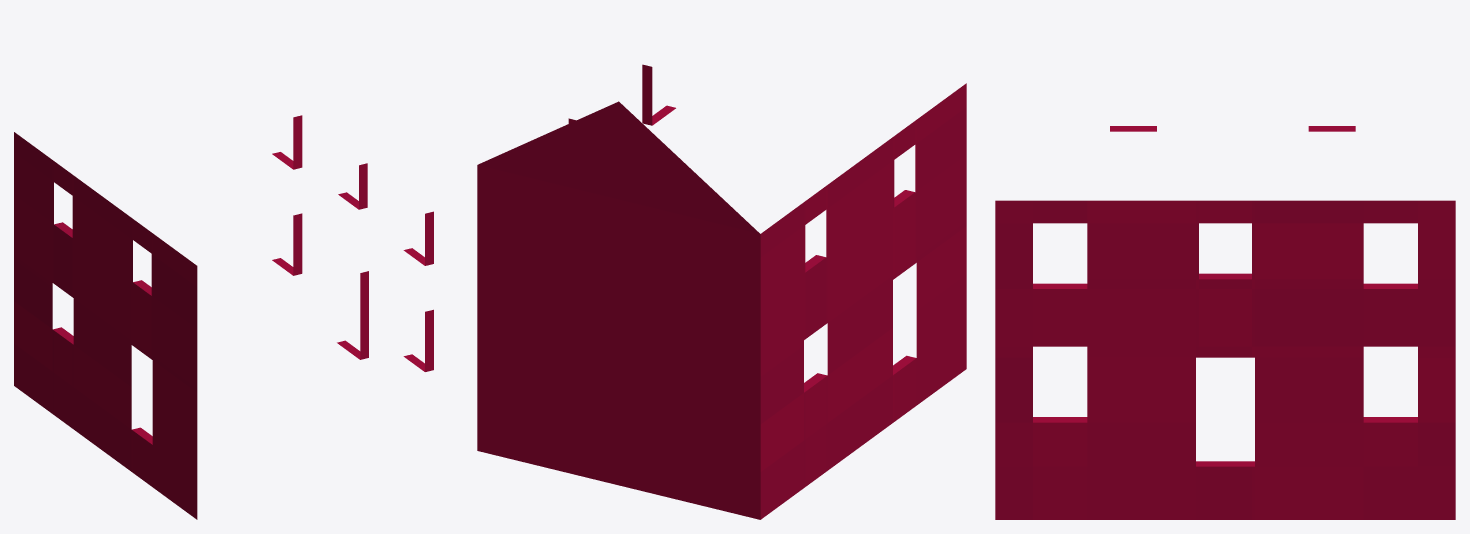
File: SM_Bld_138_Masonry.glb
The picture shows the model from 3 angles, left to right: view 1: azimuth 30°, elevation 25°; view 2: azimuth 150°, elevation 25°; view 3: azimuth 270°, elevation 25°; orthographic projection. The views are drawn at different scales.
Visible parts, largest first — view 1: SM_Bld_138_Masonry; view 2: SM_Bld_138_Masonry; view 3: SM_Bld_138_Masonry.
Boxes of the visible parts, x1=… form: SM_Bld_138_Masonry: x1=14, y1=115, x2=433, y2=519; SM_Bld_138_Masonry: x1=477, y1=64, x2=966, y2=519; SM_Bld_138_Masonry: x1=995, y1=126, x2=1455, y2=519.
Size of the model in its own units: 6.22 by 8.06 by 7.84.
